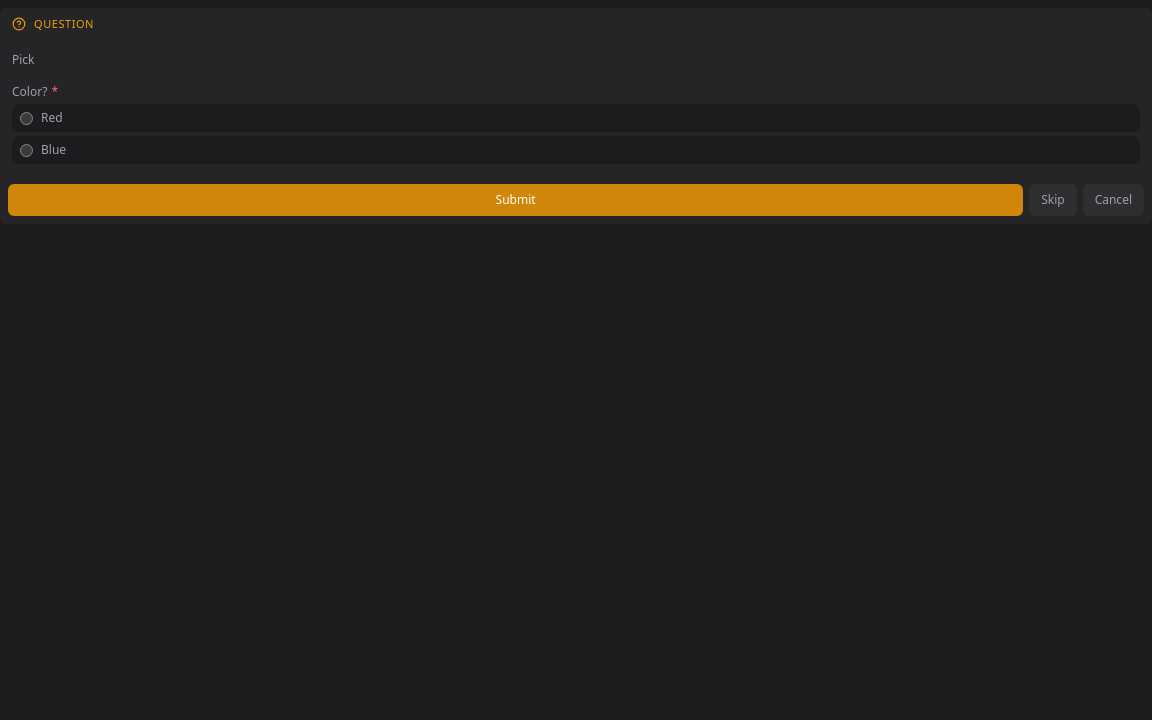
AskUserQuestionCard › blocks Submit when a required question is unanswered
The image size is (1152, 720).
Click the button "Submit". click: (516, 200)
box: [8,184,1023,216]
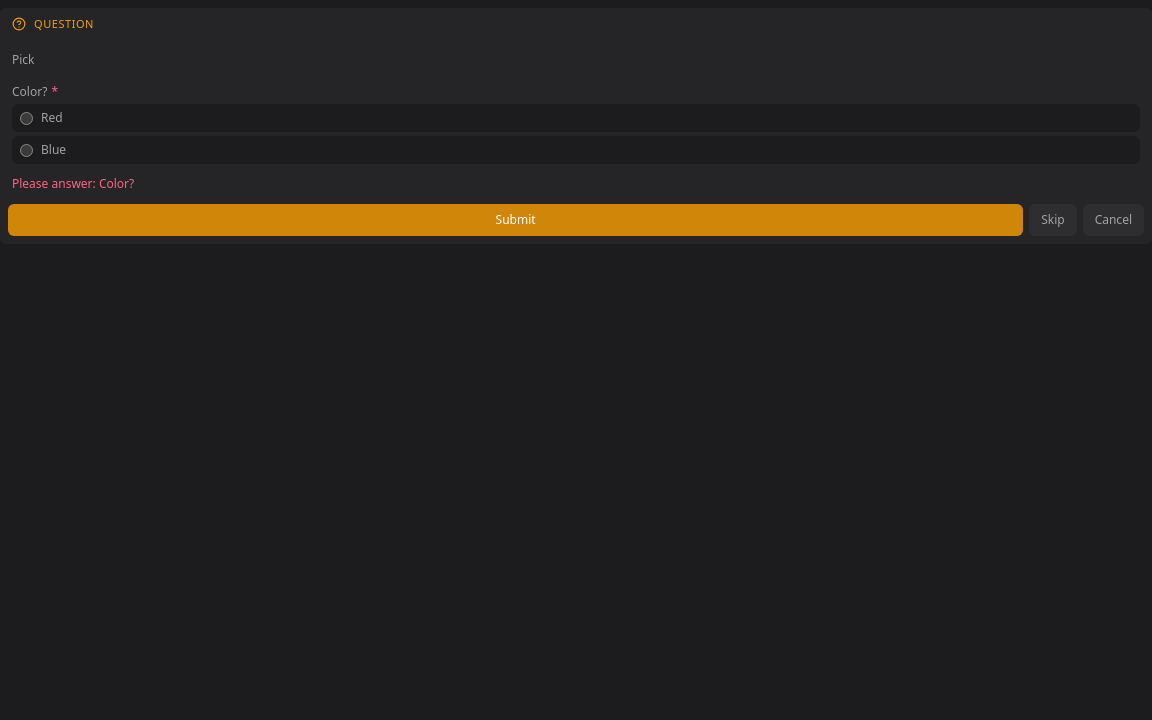
Result: the text "Please answer: Color?" is shown at [12,175,134,192]
